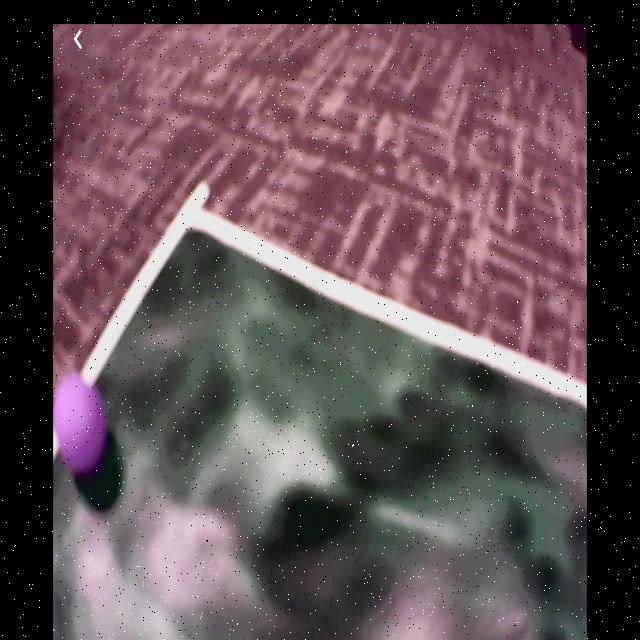ball: (55, 372, 110, 475)
